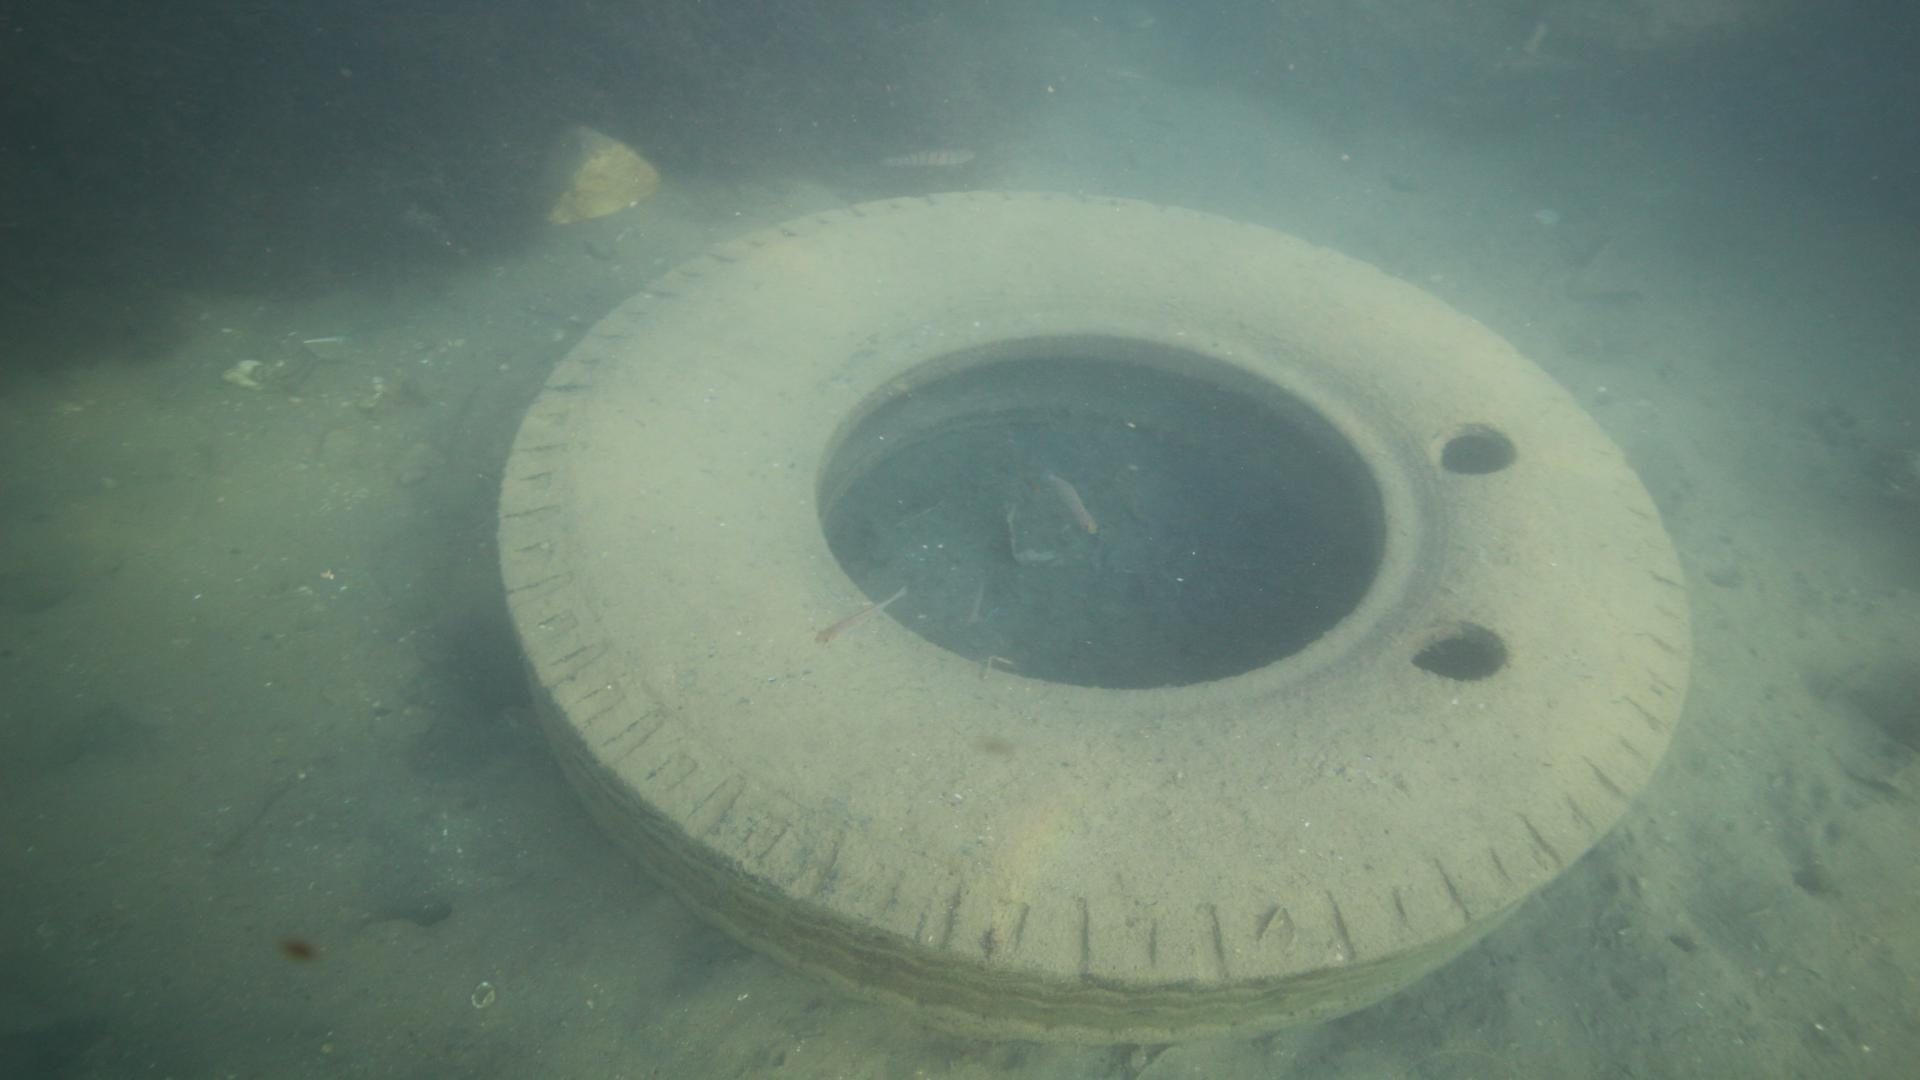tire: (493, 189, 1695, 1060)
